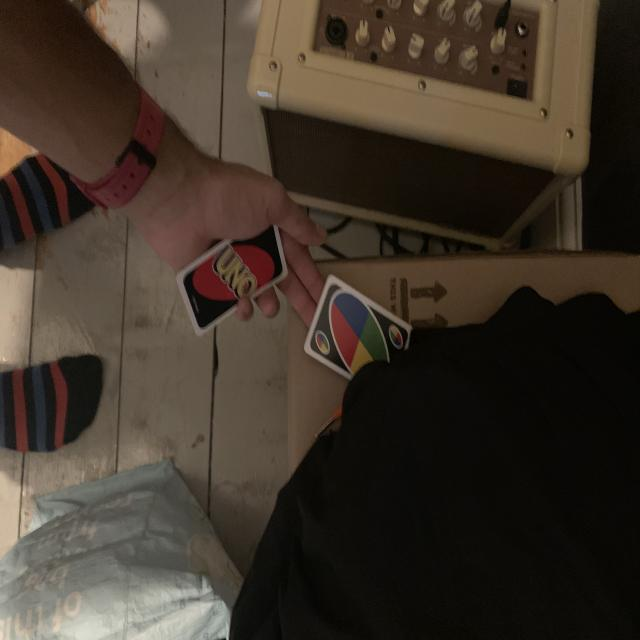lcolor-40: (312, 330, 334, 358)
